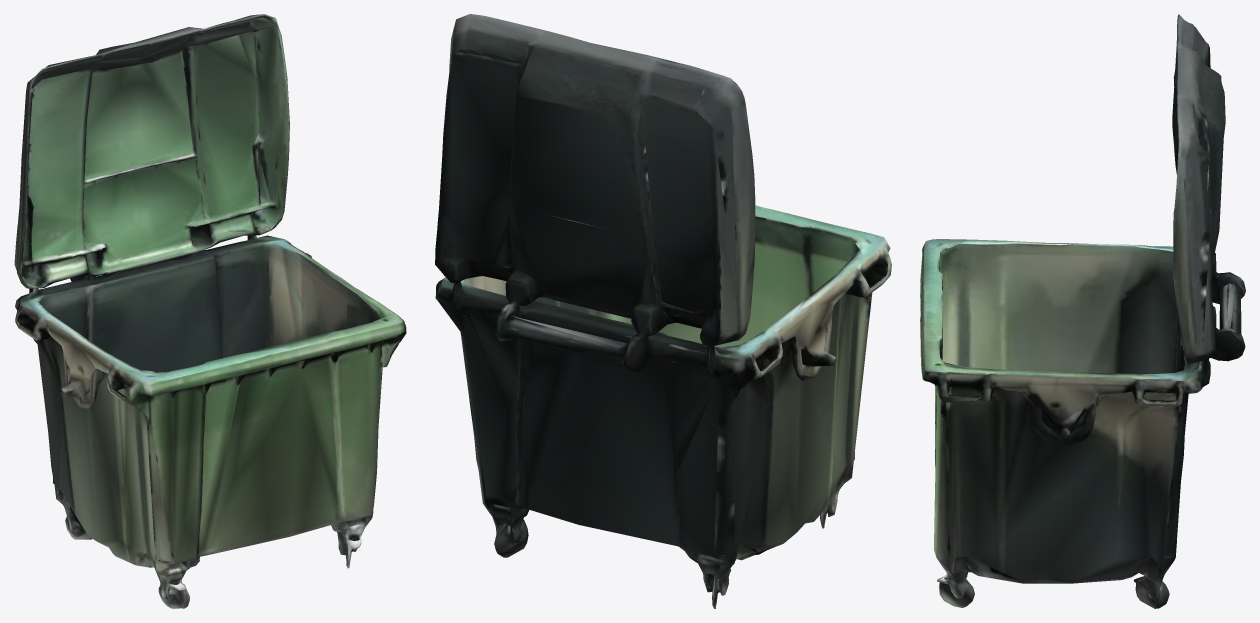
The model's file is trash_bin.glb.
The picture shows the model from 3 angles, left to right: view 1: azimuth 30°, elevation 25°; view 2: azimuth 150°, elevation 25°; view 3: azimuth 270°, elevation 25°; orthographic projection. The views are drawn at different scales.
Visible parts, largest first — view 1: tripo_node_a9e8fbd7; view 2: tripo_node_a9e8fbd7; view 3: tripo_node_a9e8fbd7.
Part boxes in pixels (bbox=[...]): tripo_node_a9e8fbd7: bbox=[14, 14, 406, 608]; tripo_node_a9e8fbd7: bbox=[435, 14, 891, 608]; tripo_node_a9e8fbd7: bbox=[920, 14, 1245, 608].
Size of the model in its own units: 0.64 by 0.9778 by 0.5852.
1 material, 1 textured.
